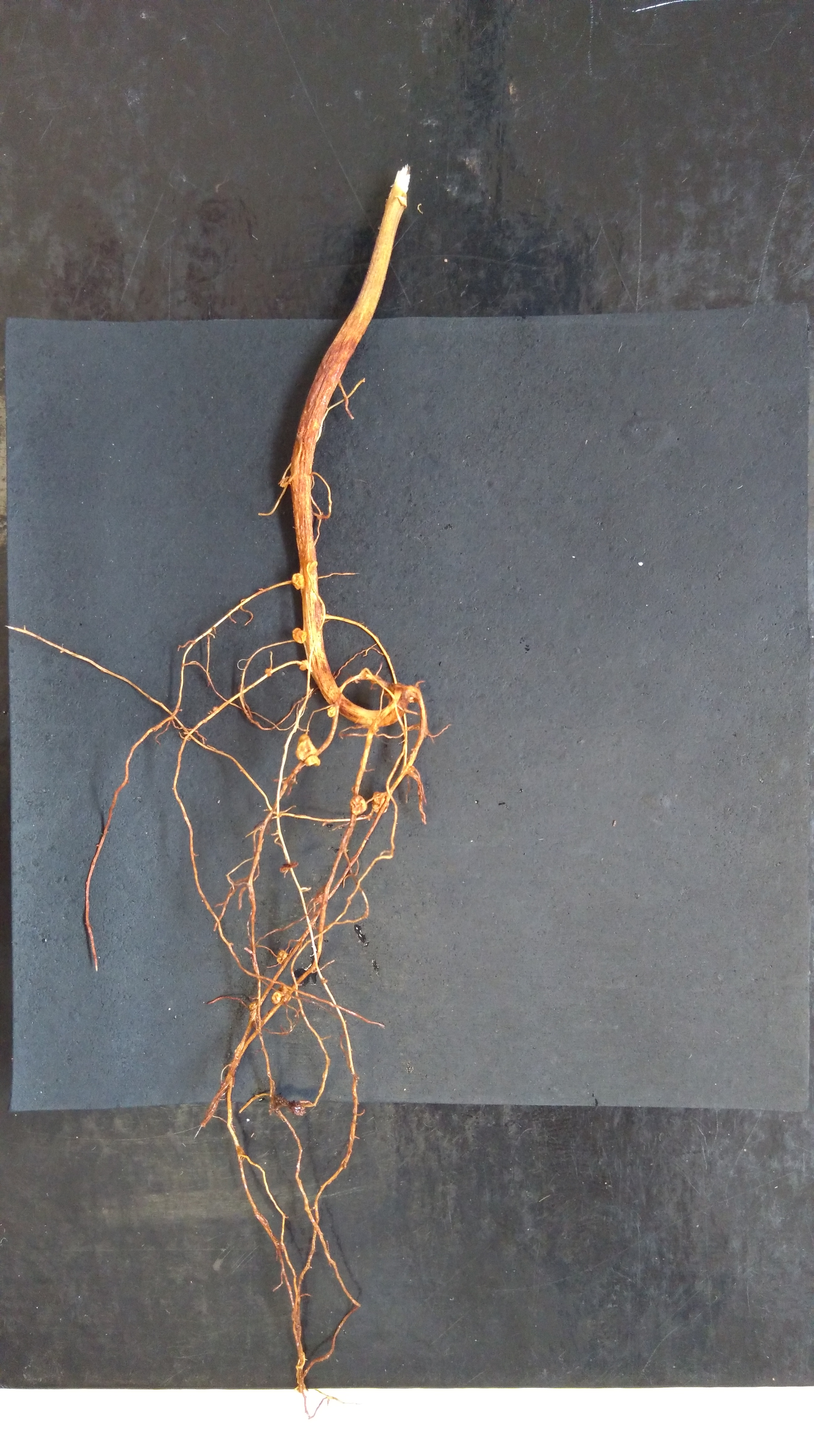nodule: (295, 733, 319, 761), (347, 793, 368, 818), (371, 790, 390, 815), (288, 1100, 307, 1118), (292, 626, 309, 646), (291, 571, 305, 592), (304, 755, 322, 767), (270, 991, 285, 1005), (275, 949, 288, 965), (325, 705, 337, 719), (277, 984, 291, 996), (298, 662, 310, 671), (248, 1001, 258, 1011), (265, 668, 272, 677), (213, 706, 218, 711), (207, 711, 213, 715)
